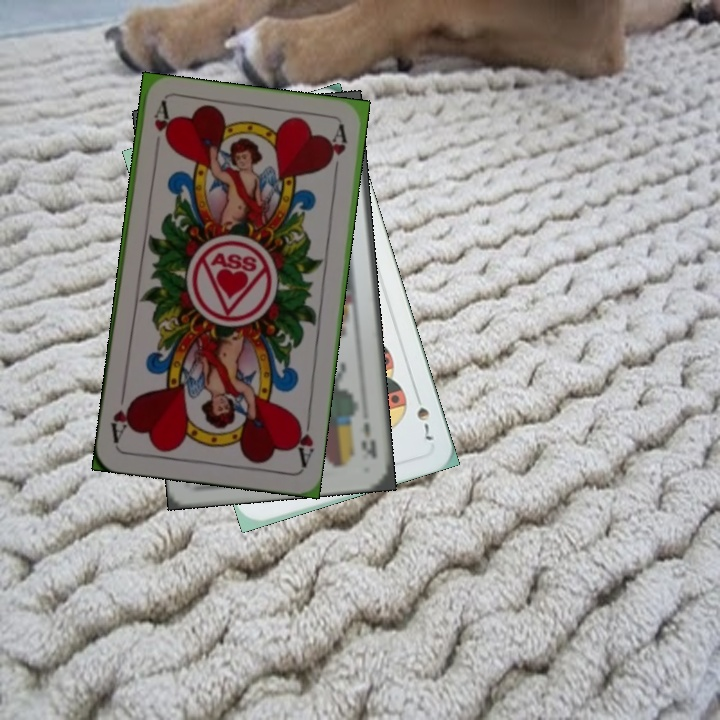EK: (357, 417, 380, 461)
HA: (289, 411, 316, 470), (150, 100, 172, 158)
S7: (411, 388, 437, 446)
